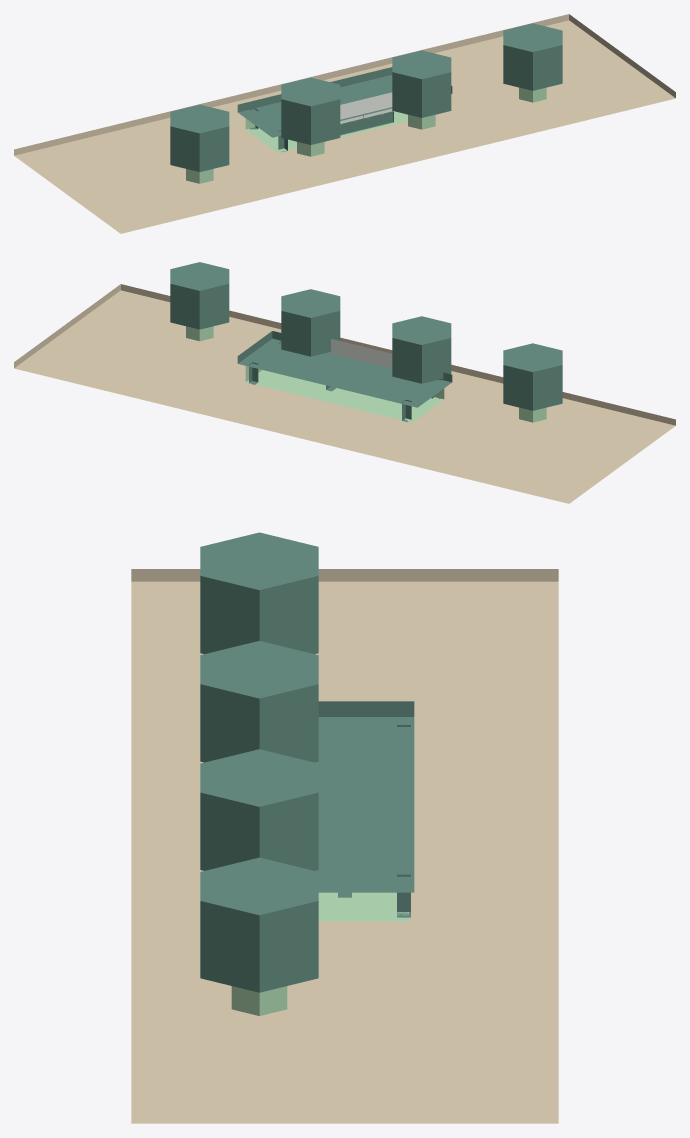
The model's file is embankment.glb.
3 renders of one model, top to bottom at view 1: azimuth 30°, elevation 25°; view 2: azimuth 150°, elevation 25°; view 3: azimuth 270°, elevation 25°, orthographic. The views are drawn at different scales.
Visible parts, largest first — view 1: Foundation, Details, Roof, Walls; view 2: Foundation, Details, Roof, Walls, Frame; view 3: Foundation, Details, Roof, Walls.
Part boxes in pixels (x1,y1,x2,y2): Foundation: (14, 14, 675, 233); Details: (170, 23, 562, 183); Roof: (237, 67, 452, 137); Walls: (245, 111, 407, 152); Foundation: (14, 284, 675, 503); Details: (170, 262, 562, 422); Roof: (237, 331, 452, 407); Walls: (245, 366, 444, 422); Frame: (249, 341, 440, 422); Foundation: (131, 569, 558, 1123); Details: (200, 532, 318, 1015); Roof: (315, 701, 414, 892); Walls: (318, 892, 408, 921).
Bounding box in the file's own units: 60 × 6.65 × 20.
